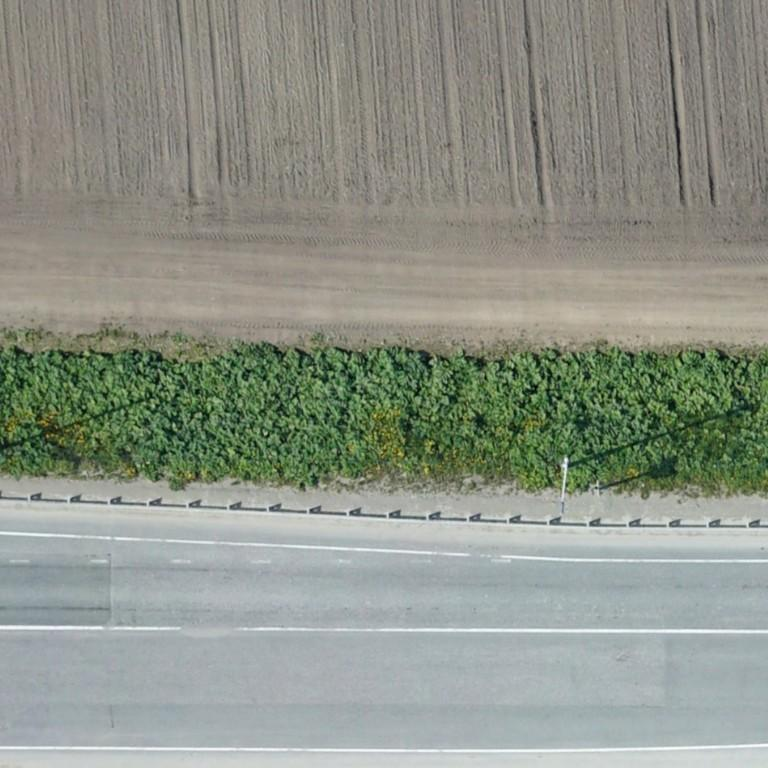hogweed: (0, 343, 767, 492)
